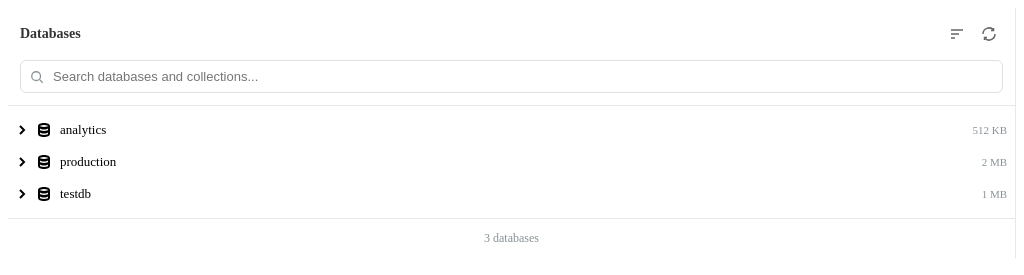
Scenario: DatabaseBrowser › search functionality › filters databases by name
The width and height of the screenshot is (1024, 275).
Type "test" into the field with test id "search-input".
click(512, 76); type("test")  # box [20,60,1003,93]
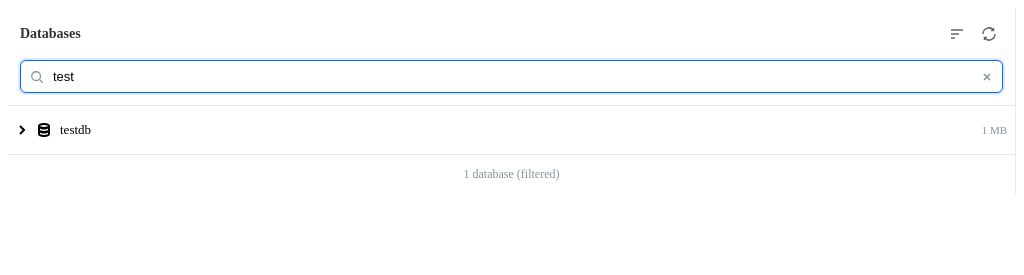
Expected: the text "testdb" is shown, [60,122,91,137]
Expected: the text "production" is gone
Expected: the text "analytics" is gone
